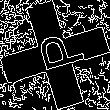P_W: (25, 30, 85, 80)
